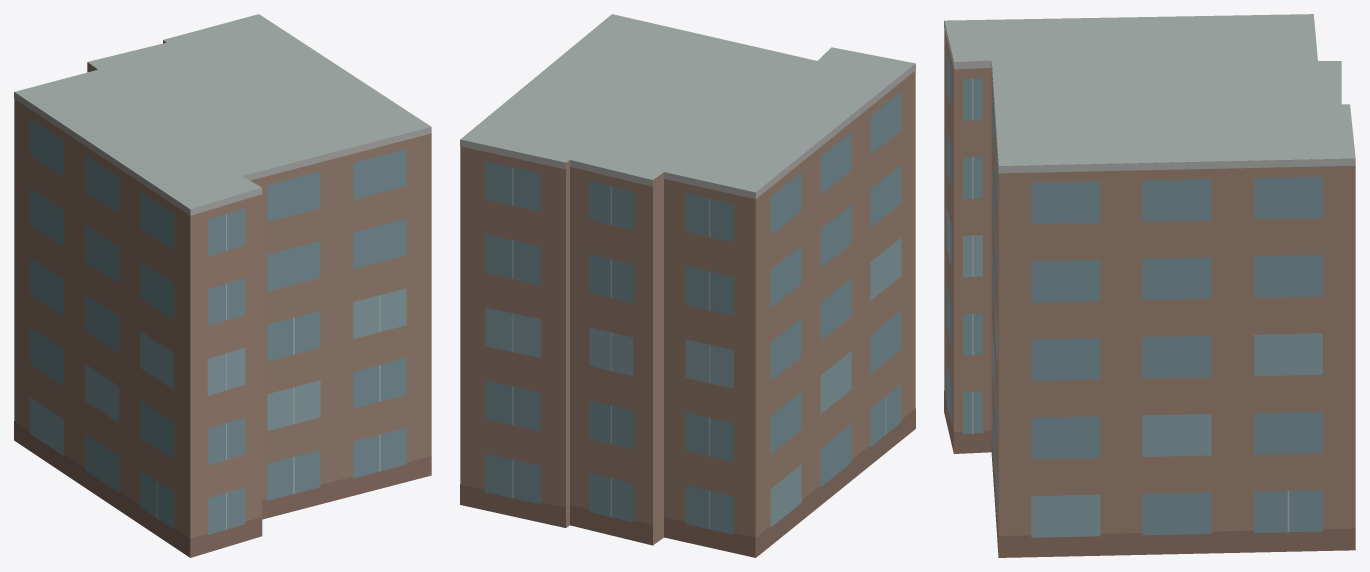
File: survey-upis-32491333.glb
3 renders of one model, left to right at view 1: azimuth 30°, elevation 25°; view 2: azimuth 150°, elevation 25°; view 3: azimuth 270°, elevation 25°, orthographic. The views are drawn at different scales.
Visible parts, largest first — view 1: survey-upis-32491333.tmp; view 2: survey-upis-32491333.tmp; view 3: survey-upis-32491333.tmp.
Boxes of the visible parts, x1,y1,x2,y2 form: survey-upis-32491333.tmp: (14, 14, 431, 557); survey-upis-32491333.tmp: (460, 14, 915, 557); survey-upis-32491333.tmp: (944, 14, 1355, 557).
Bounding box in the file's own units: 10.92 × 13.1 × 12.48.
